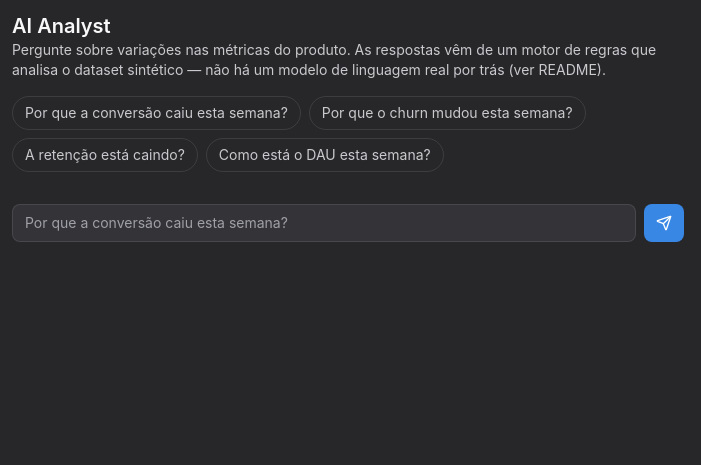
Test: AiAnalystChat › clicar numa pergunta sugerida mostra a pergunta e um InsightCard de resposta
Click the button "Por que a conversão caiu esta semana?" at (156, 113), box [12,96,301,130]
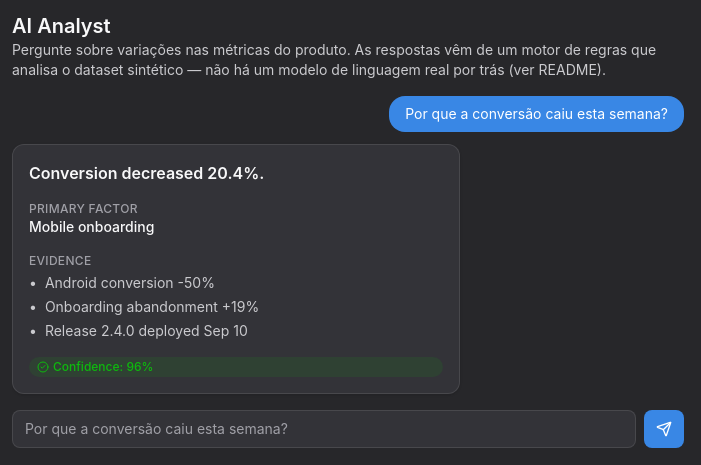
expect the text "Por que a conversão caiu esta semana?" is shown: met, box [389,96,684,132]
expect the text "Conversion decreased 20.4%." is shown: met, box [29,163,264,183]
expect the text "Confidence: 96%" is shown: met, box [29,357,443,377]
